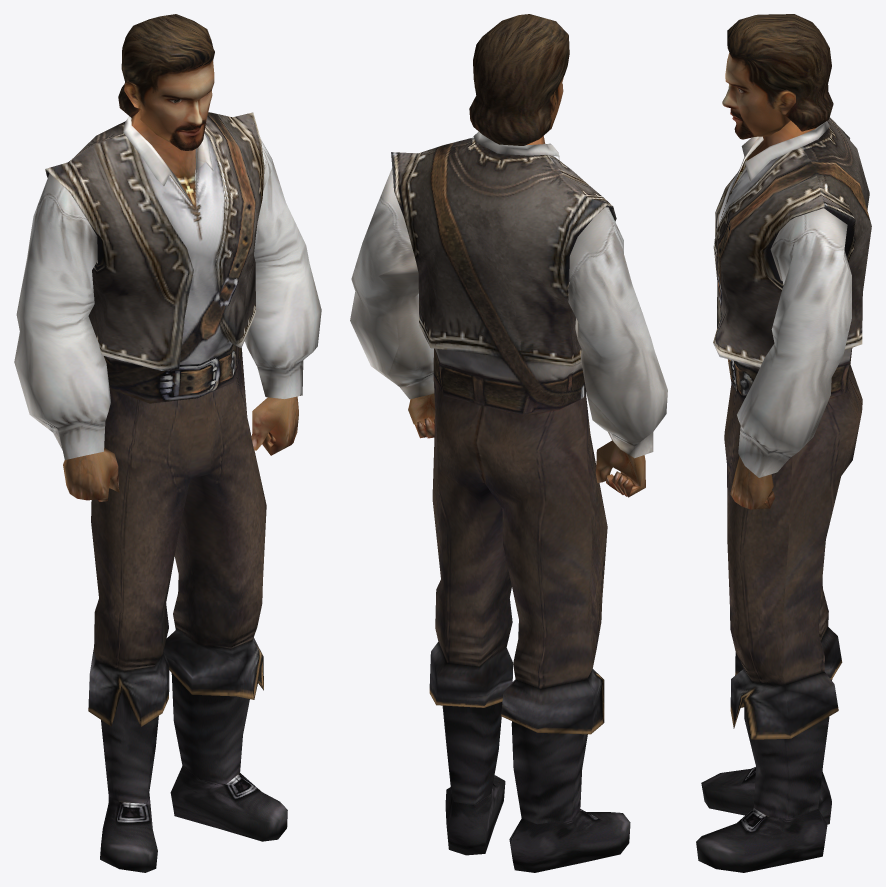
The model's file is Blaze.fbx.
The picture shows the model from 3 angles, left to right: view 1: azimuth 30°, elevation 25°; view 2: azimuth 150°, elevation 25°; view 3: azimuth 270°, elevation 25°; orthographic projection.
Parts seen in each view (by area): view 1: blaze; view 2: blaze; view 3: blaze.
Part boxes in pixels (box(x1,y1,x2,y2)): blaze: box(14, 14, 321, 872); blaze: box(350, 14, 667, 872); blaze: box(696, 14, 871, 872).
Size of the model in its own units: 9.44 by 25.01 by 4.9.
